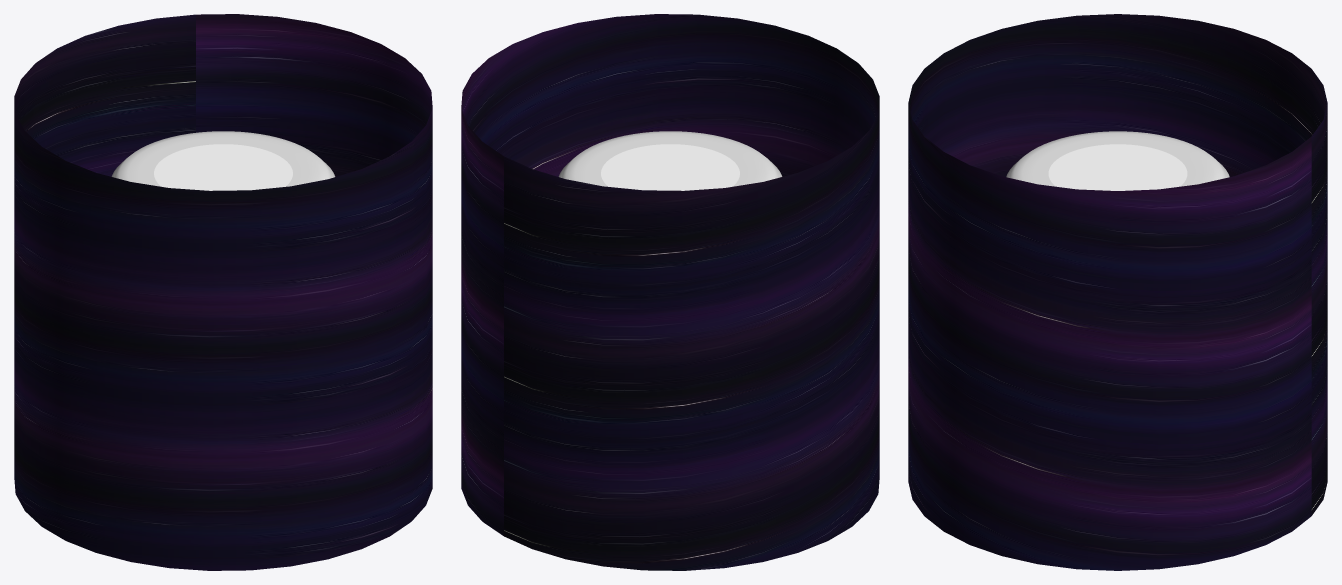
Rendered from Dome Showcase.fbx.
3 renders of one model, left to right at view 1: azimuth 30°, elevation 25°; view 2: azimuth 150°, elevation 25°; view 3: azimuth 270°, elevation 25°, orthographic.
Visible parts, largest first — view 1: Background, Dome; view 2: Background, Dome; view 3: Background, Dome.
Boxes of the visible parts, x1,y1,x2,y2 form: Background: [14, 14, 432, 570]; Dome: [111, 131, 335, 190]; Background: [461, 14, 879, 570]; Dome: [558, 131, 782, 190]; Background: [908, 14, 1327, 570]; Dome: [1006, 131, 1229, 190].
Size of the model in its own units: 500 by 500 by 500.
Materials: 5 (1 with a texture image).
